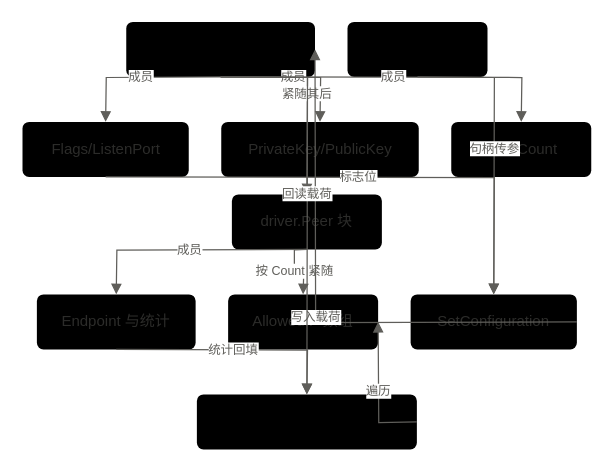
Image size: 613x471. Some labels were removed from this diagram. The shapes that lost their labels are listed below. From the top down, each one's box as (x1, y1, x2, y2) in pixels, then its label:
(125, 21, 315, 77): driver.Interface 头
(346, 21, 488, 77): Adapter 句柄
(196, 393, 417, 449): FromDriverConfiguration
